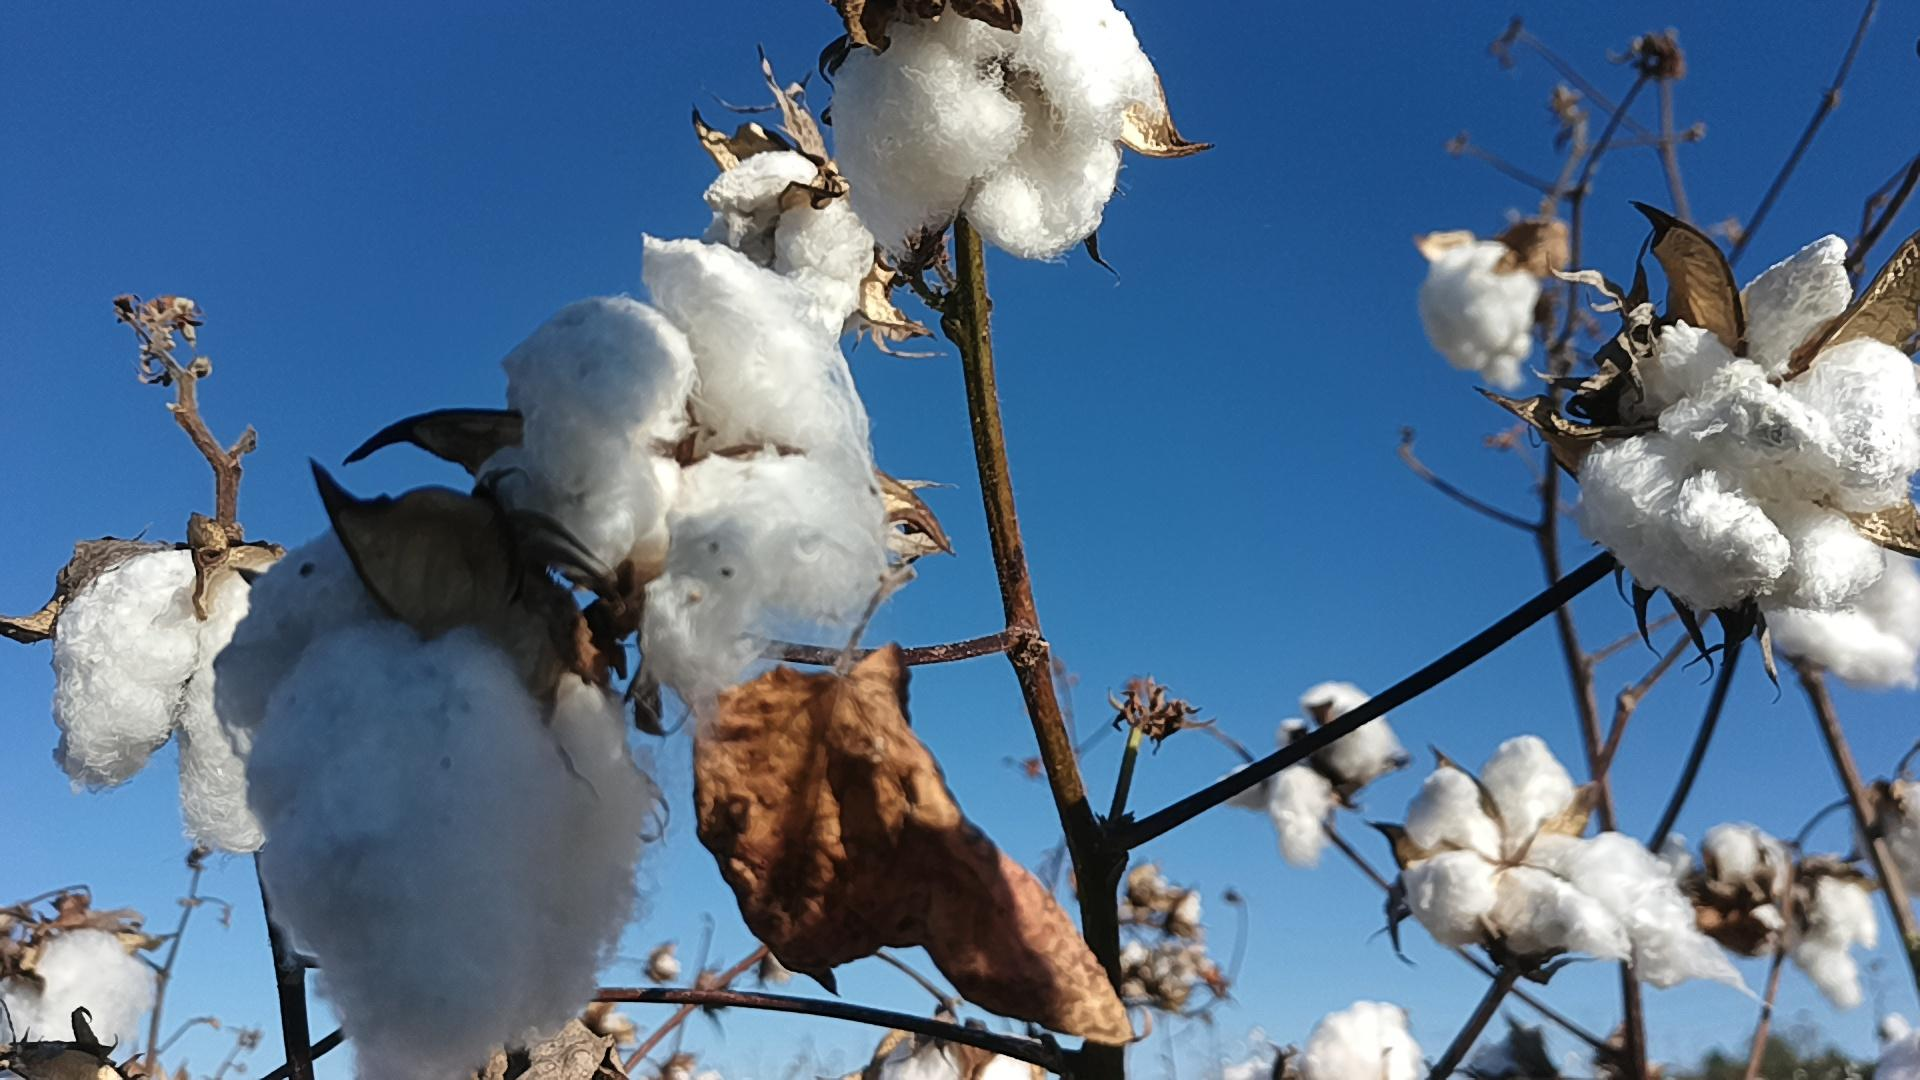cotton_ready: (214, 521, 666, 1080), (502, 233, 895, 725), (1578, 231, 1920, 607), (1400, 736, 1758, 1002), (825, 0, 1160, 258), (53, 546, 295, 849), (1213, 675, 1398, 873), (700, 153, 876, 335), (0, 928, 166, 1080), (1423, 236, 1536, 392), (1792, 869, 1878, 1015), (1283, 1001, 1431, 1080), (1691, 825, 1785, 928), (882, 1029, 1046, 1080), (1875, 781, 1920, 901)
